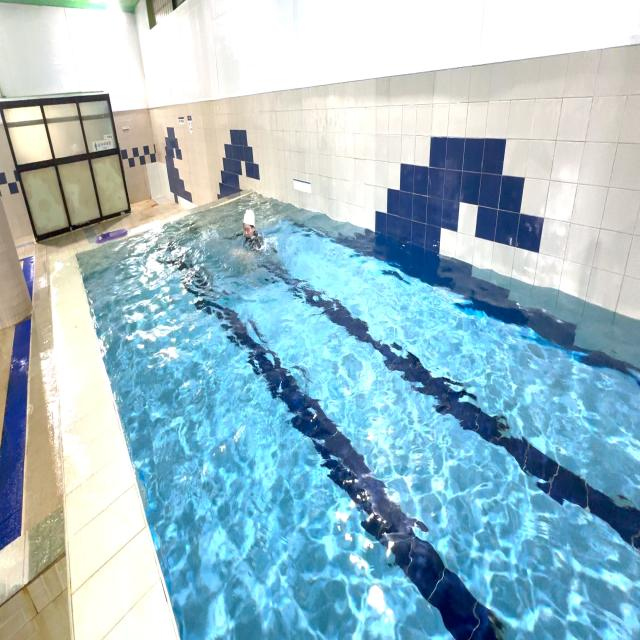Drowning: (226, 204, 272, 258)
